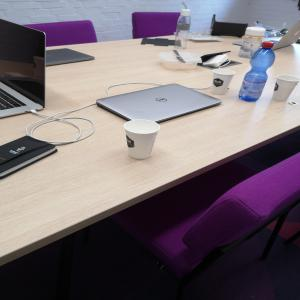Cup: (125, 120, 162, 161), (272, 75, 300, 103), (212, 69, 237, 96)
Plastic-bottle: (239, 41, 277, 104), (173, 9, 198, 53)
